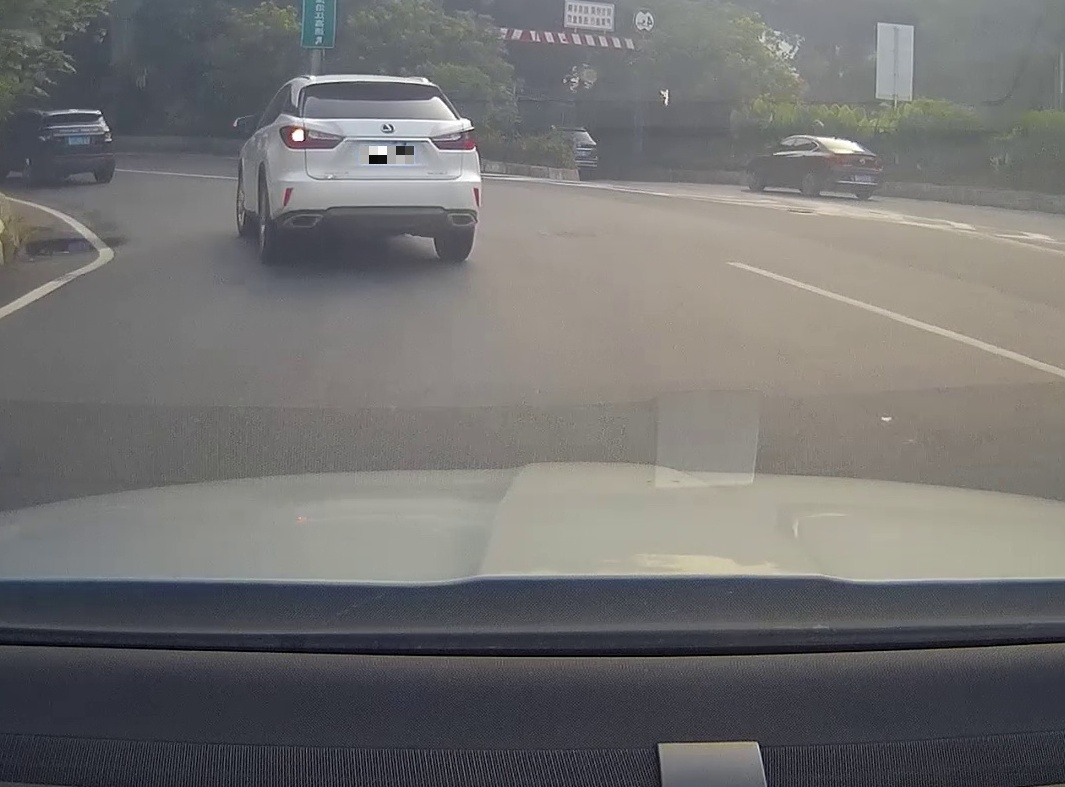L_light: (278, 124, 347, 150)
R_light: (430, 126, 477, 151)
T_light: (356, 80, 389, 85)
day-left: (271, 74, 482, 264)
plate_1: (360, 146, 414, 164)
